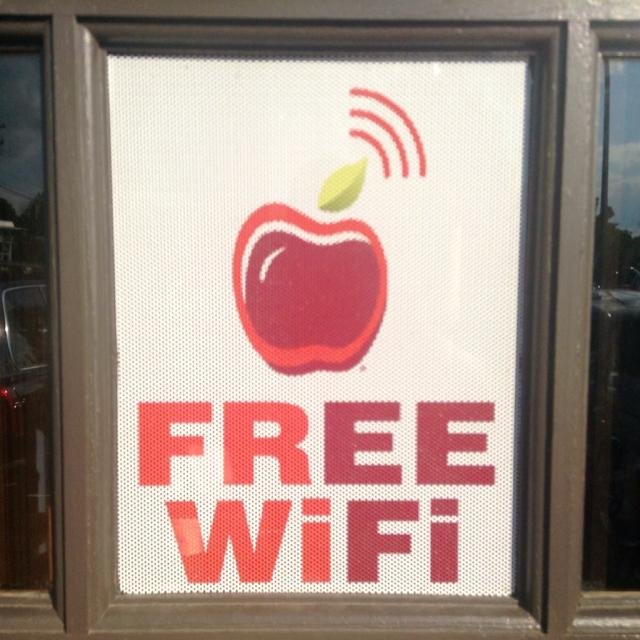Healty Apple: (241, 208, 394, 396)
